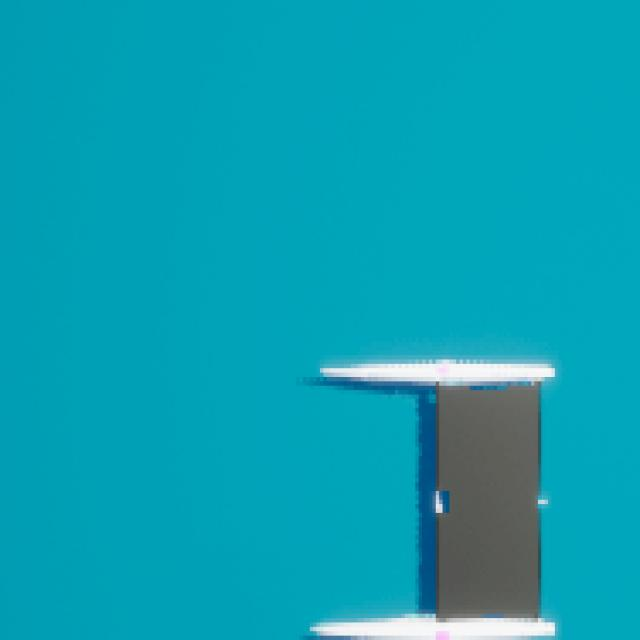boat: (306, 346, 565, 640)
drone: (438, 394, 540, 613)
